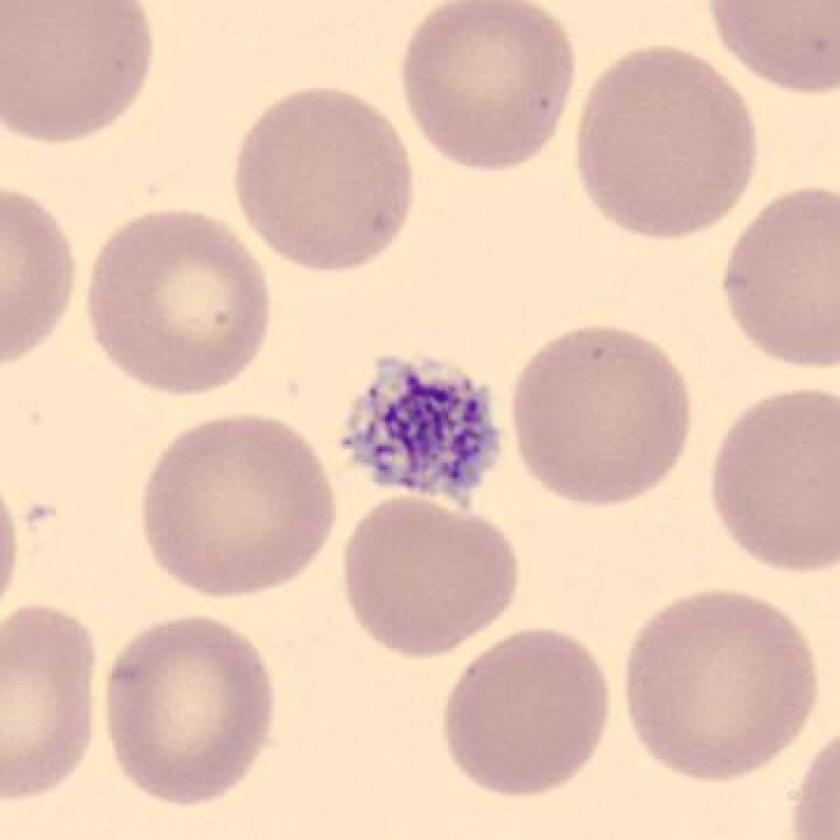platelets: (335, 341, 512, 515)
